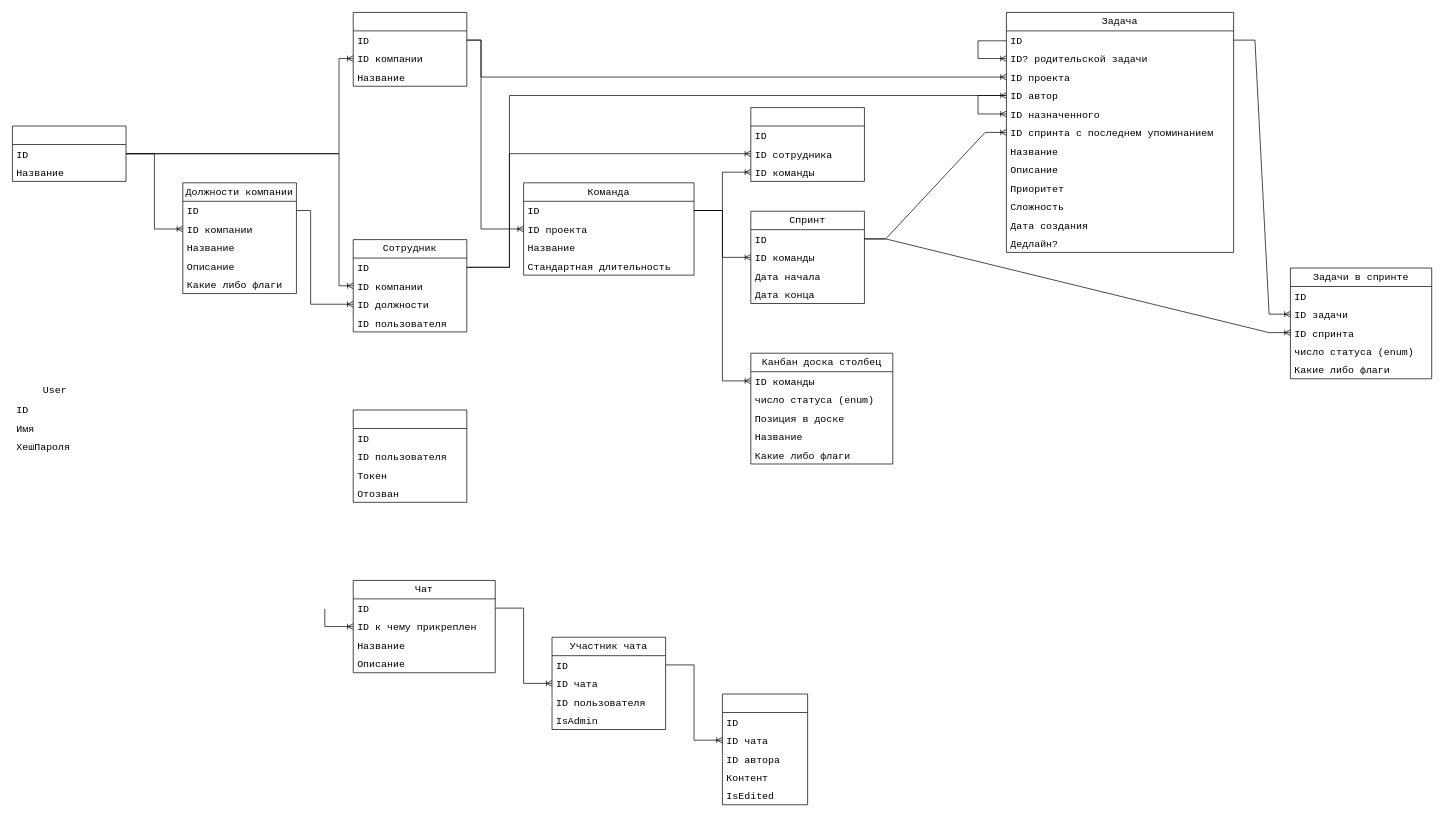
This 1444x819 diagram has some shape labels left out. The shapes that lost their labels are listed below. From the top down, each one's box as (x1, y1, x2, y2) in pixels, then its label:
(353, 12, 467, 86): Проект
(12, 125, 126, 181): Компания
(750, 107, 864, 181): Член команды
(353, 409, 467, 502): RefreshToken
(722, 693, 808, 805): Сообщение
